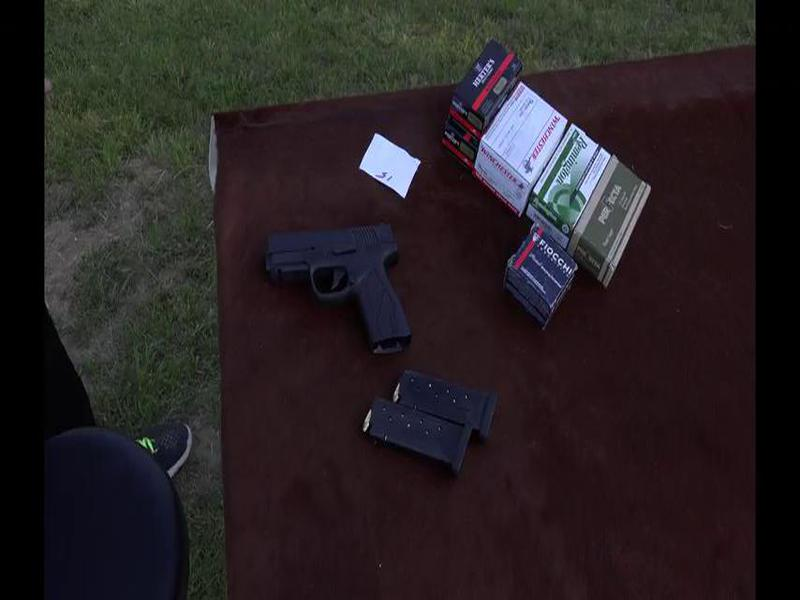Pistola: (265, 215, 419, 356)
